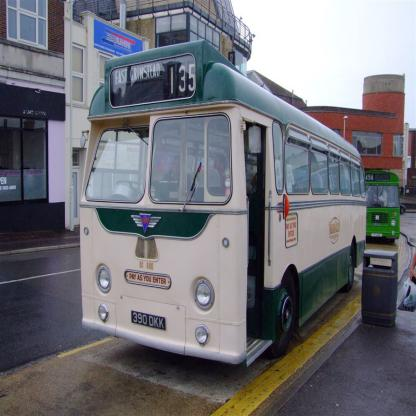Bus: (78, 37, 368, 362), (360, 167, 400, 245)
